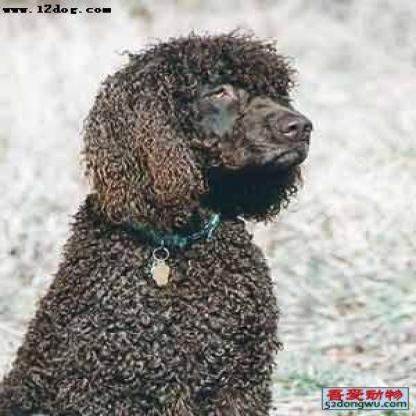Irish_water_spaniel: (0, 20, 319, 414)
